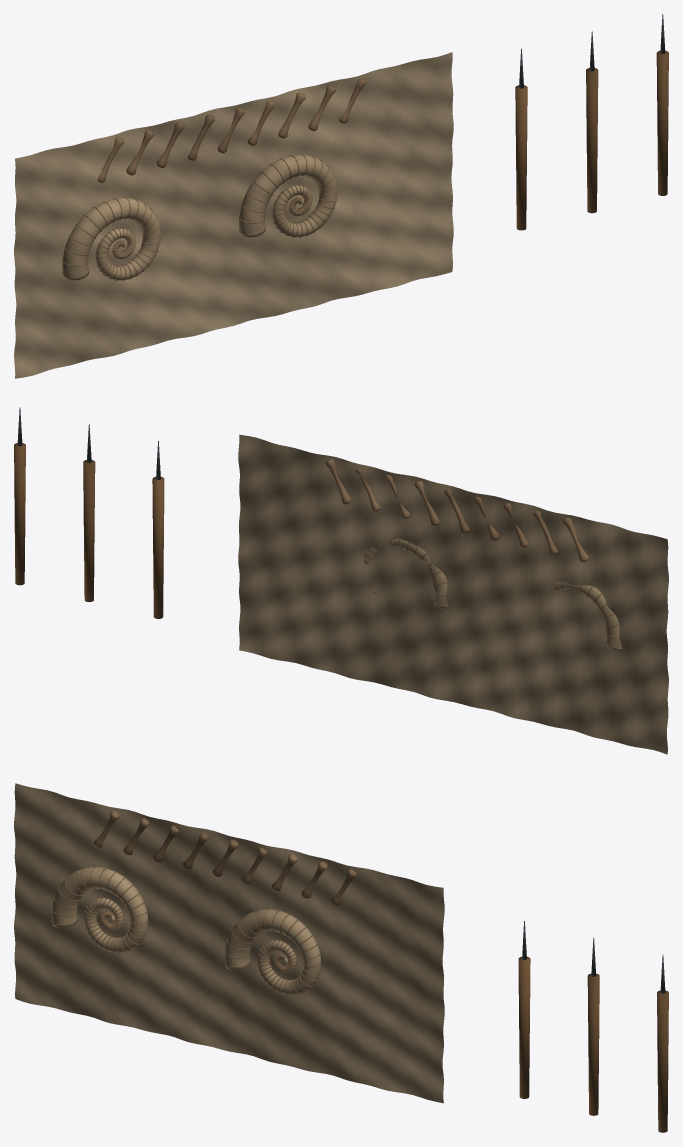
The picture shows the model from 3 angles, top to bottom: view 1: azimuth 30°, elevation 25°; view 2: azimuth 150°, elevation 25°; view 3: azimuth 330°, elevation 25°; orthographic projection. The views are drawn at different scales.
Visible parts, largest first — view 1: F02_SPEC_Matrix sandstone_export, F02_SPEC_Fossil ridge_export, F02_SPEC_Fossil umber_export, F02_SPEC_Bark_export; view 2: F02_SPEC_Matrix sandstone_export, F02_SPEC_Bark_export, F02_SPEC_Fossil umber_export, F02_SPEC_Fossil ridge_export; view 3: F02_SPEC_Matrix sandstone_export, F02_SPEC_Fossil ridge_export, F02_SPEC_Fossil umber_export, F02_SPEC_Bark_export.
Boxes of the visible parts, bbox=[...] form: F02_SPEC_Matrix sandstone_export: bbox=[14, 52, 453, 378]; F02_SPEC_Fossil ridge_export: bbox=[62, 154, 337, 280]; F02_SPEC_Fossil umber_export: bbox=[62, 78, 366, 280]; F02_SPEC_Bark_export: bbox=[515, 51, 668, 230]; F02_SPEC_Matrix sandstone_export: bbox=[238, 434, 668, 754]; F02_SPEC_Bark_export: bbox=[14, 443, 164, 618]; F02_SPEC_Fossil umber_export: bbox=[325, 459, 622, 649]; F02_SPEC_Fossil ridge_export: bbox=[364, 538, 622, 651]; F02_SPEC_Matrix sandstone_export: bbox=[14, 783, 444, 1103]; F02_SPEC_Fossil ridge_export: bbox=[51, 867, 321, 995]; F02_SPEC_Fossil umber_export: bbox=[51, 810, 356, 995]; F02_SPEC_Bark_export: bbox=[518, 956, 668, 1132].
Bounding box in the file's own units: 3.92 × 1.25 × 0.2234.
